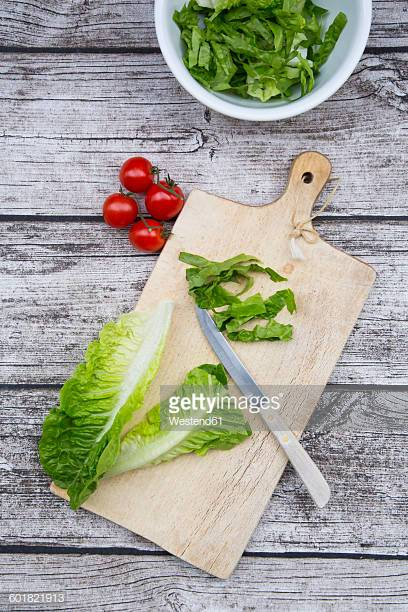chopped lettuce: (186, 5, 326, 86), (57, 326, 116, 500), (181, 262, 314, 333)
